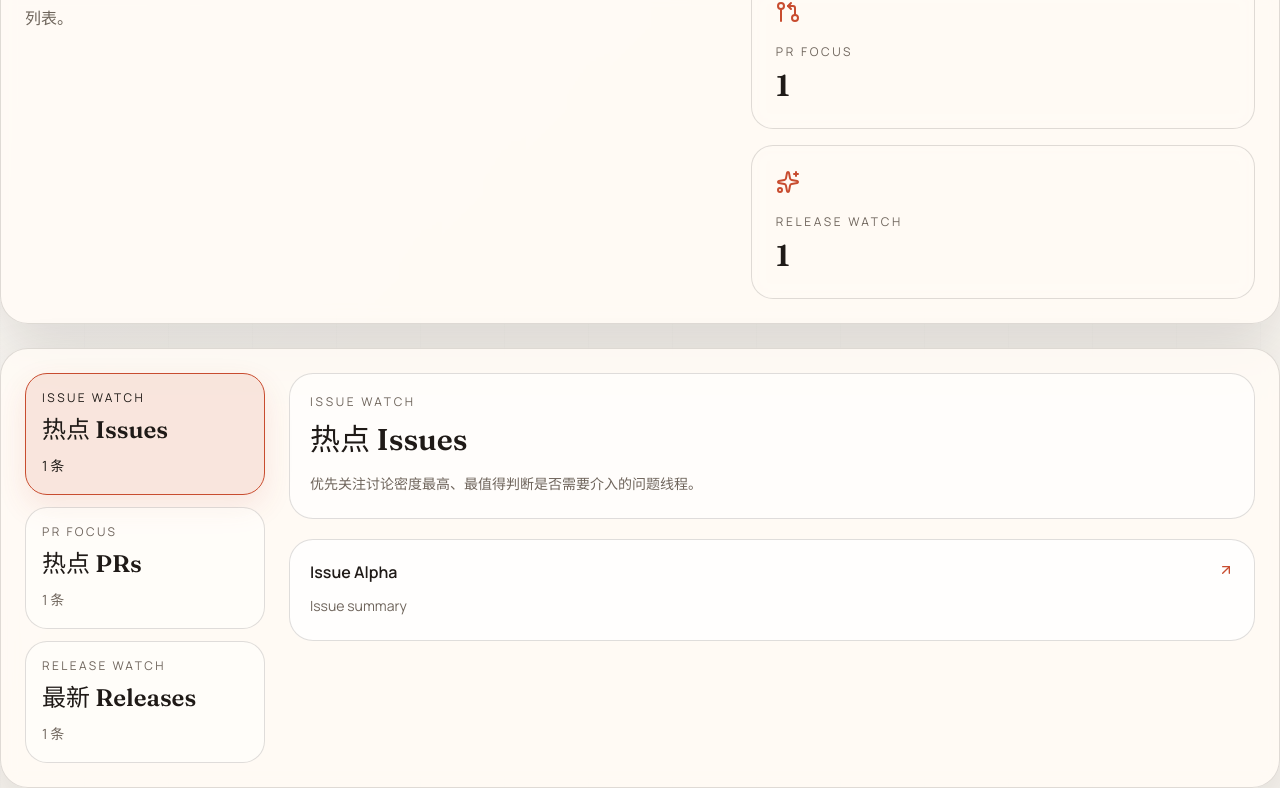
Test case: DashboardPage › switches between issue, pr, and release panels
(page scrolled)
Check: the tab "Issue Watch 热点 Issues 1 条" is shown, box [25, 373, 265, 495]
Check: the text "Issue Alpha" is shown, box [310, 560, 397, 584]
Click the tab "PR Focus 热点 PRs 1 条" at (145, 568), box [25, 507, 265, 629]
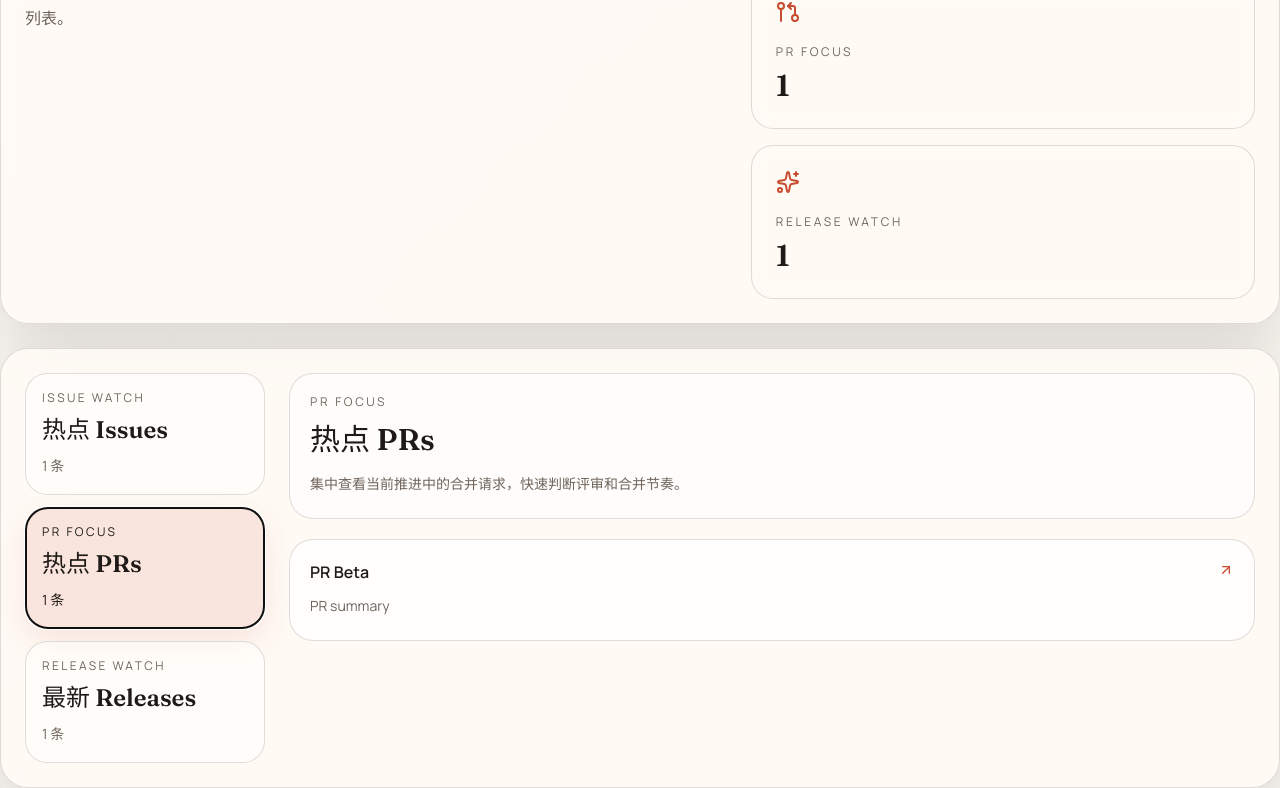
Check: the text "PR Beta" is shown, box [310, 560, 369, 584]
Check: the link "Issue Alpha" is gone
Click the tab "Release Watch 最新 Releases 1 条" at (145, 702), box [25, 641, 265, 763]
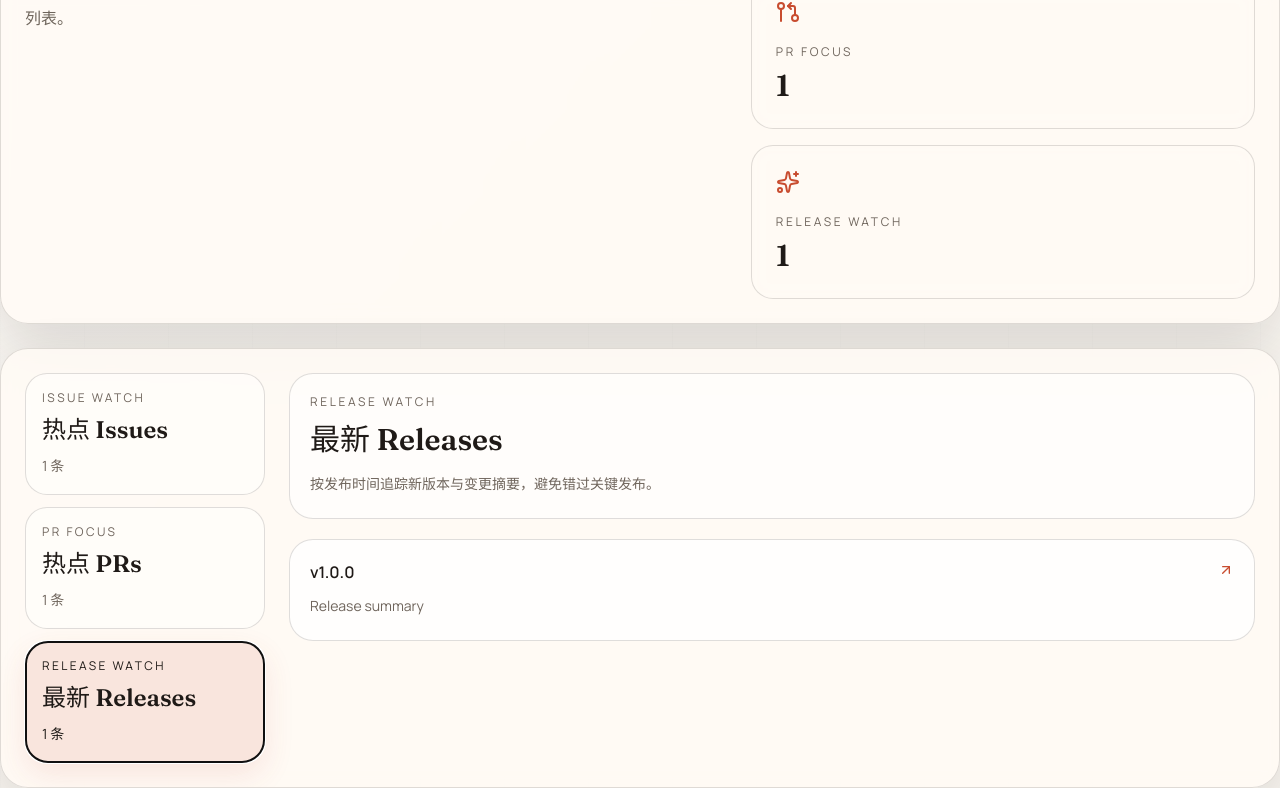
Check: the text "v1.0.0" is shown, box [310, 560, 354, 584]
Check: the link "PR Beta" is gone
